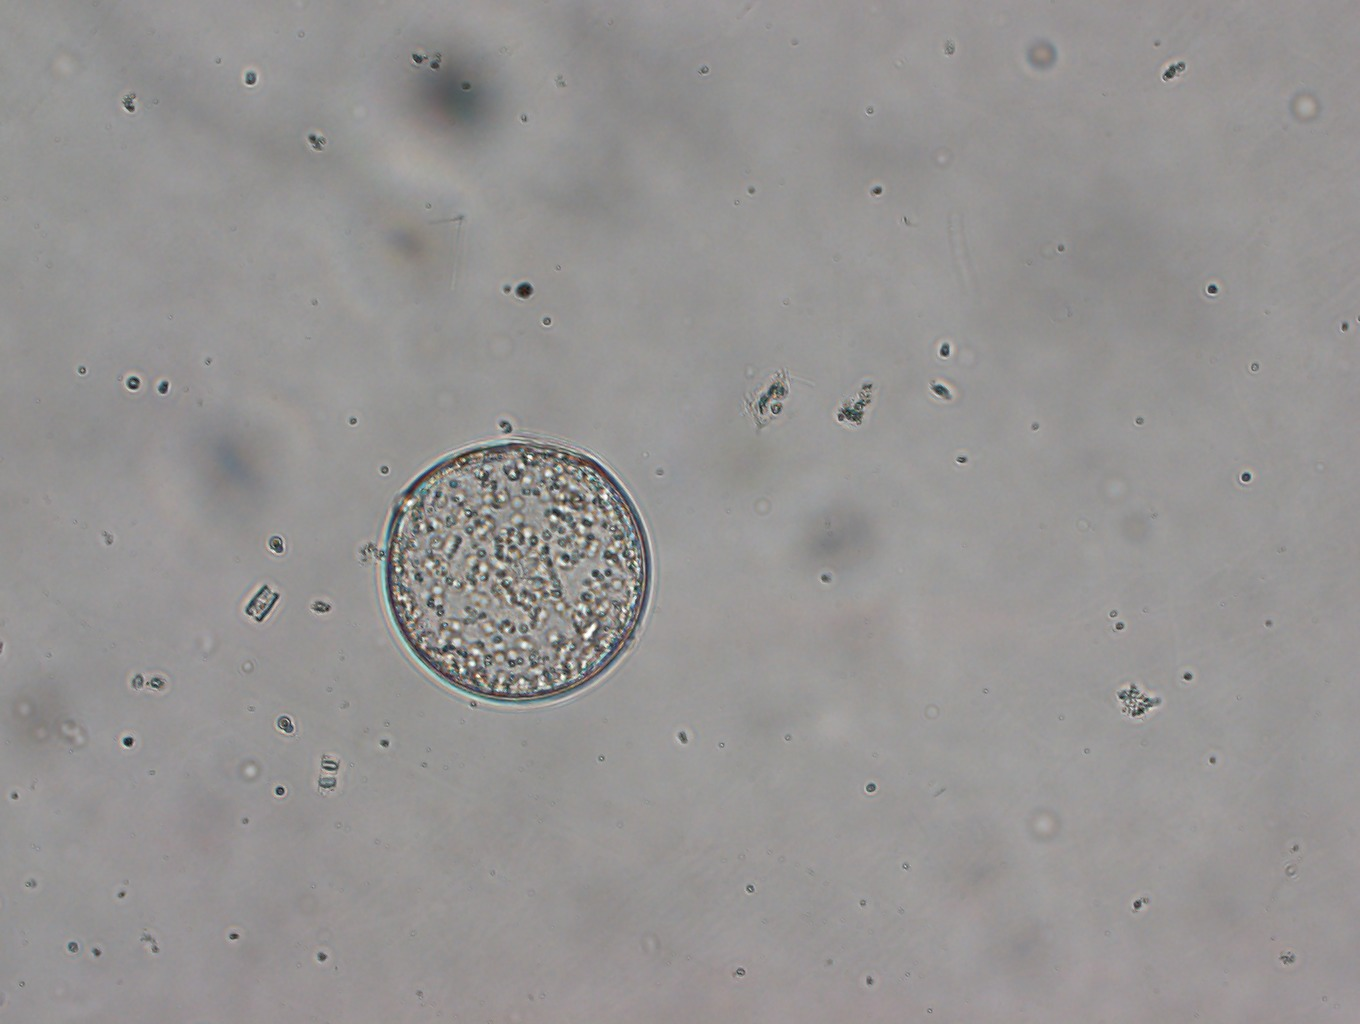coscinodiscus: (376, 433, 657, 710)
